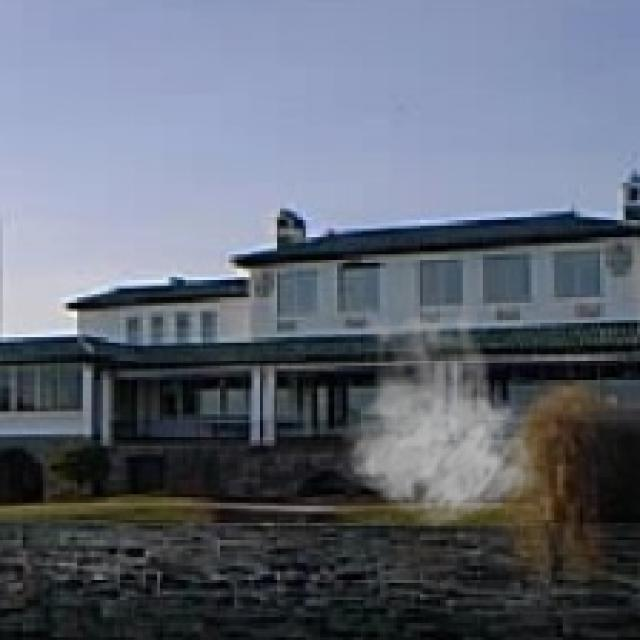Smoke: (328, 297, 543, 529)
